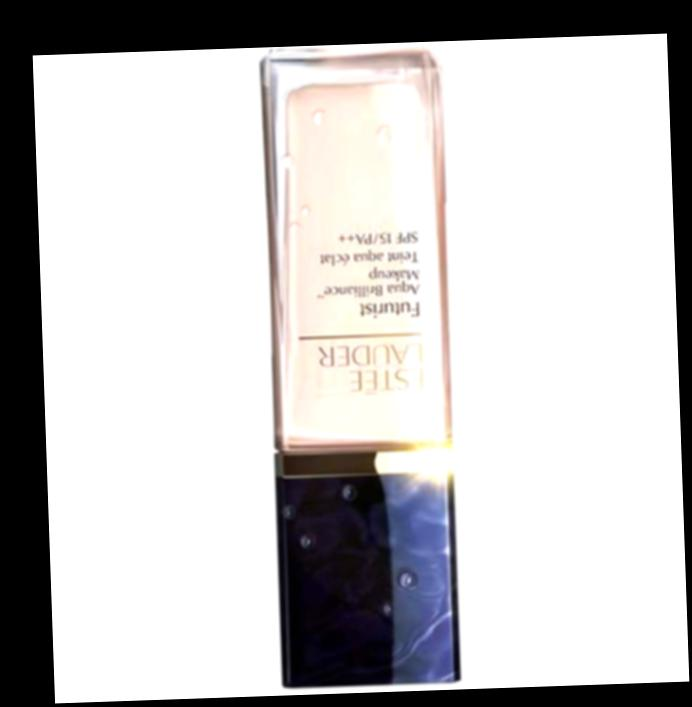cosmetic: (256, 44, 462, 690)
